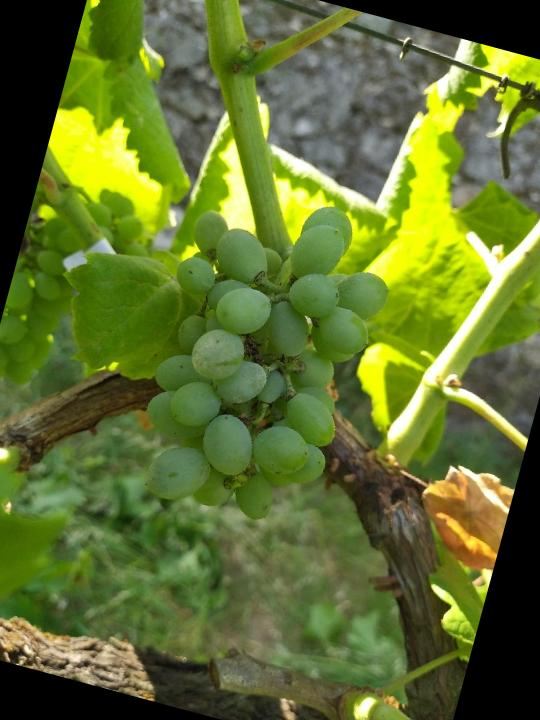grape: (117, 168, 413, 546)
